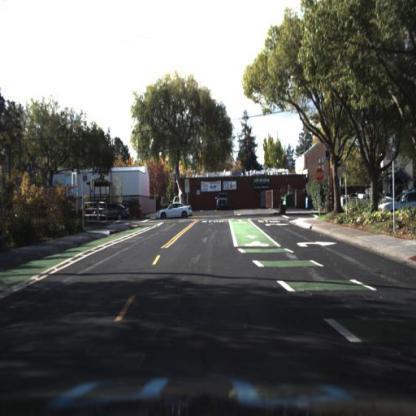car: (340, 183, 393, 214), (155, 200, 193, 224), (96, 199, 132, 222), (216, 190, 233, 213)
